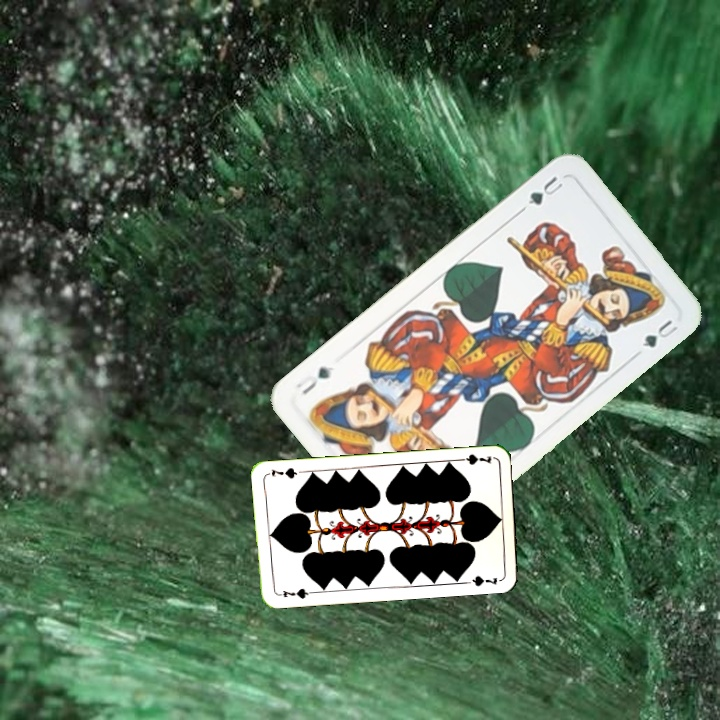G7: (453, 450, 494, 467), (274, 584, 314, 601)
GU: (523, 172, 566, 208)
